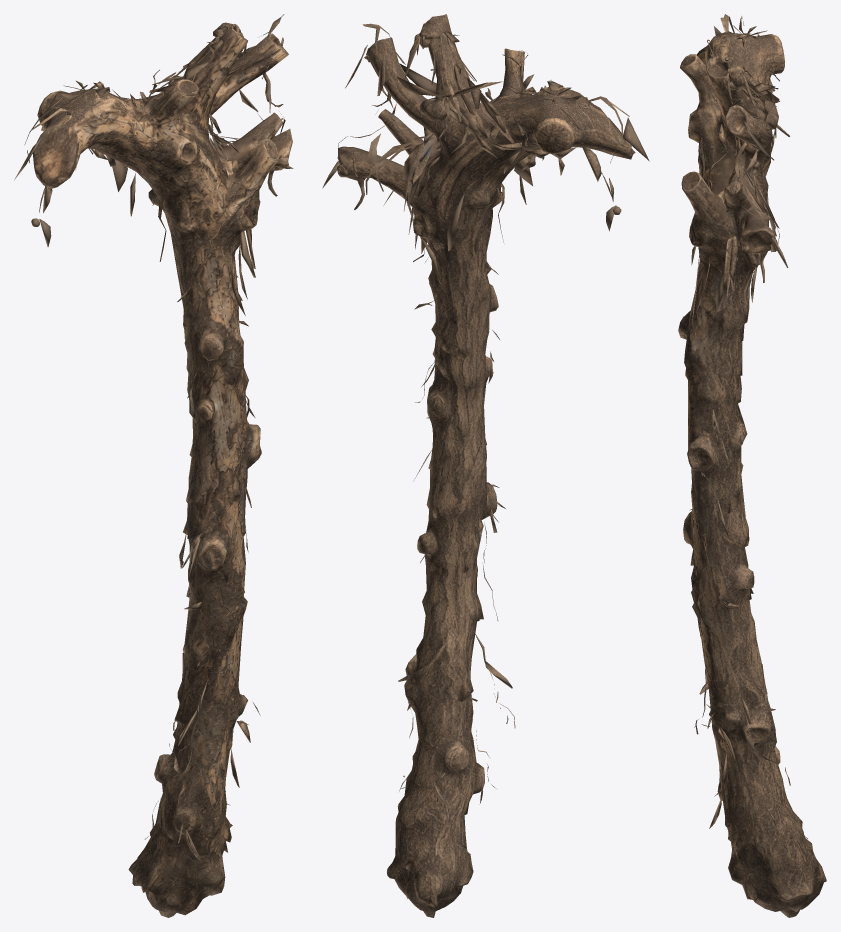
The model's file is excavated_shillelagh.fbx.
3 views of the same model, side by side, from view 1: azimuth 30°, elevation 25°; view 2: azimuth 150°, elevation 25°; view 3: azimuth 270°, elevation 25° (orthographic). The views are drawn at different scales.
Visible parts, largest first — view 1: Mesh_0; view 2: Mesh_0; view 3: Mesh_0.
Boxes of the visible parts, x1,y1,x2,y2 form: Mesh_0: [14, 14, 293, 917]; Mesh_0: [322, 14, 649, 917]; Mesh_0: [678, 14, 826, 917].
Bounding box in the file's own units: 33.59 × 95.12 × 14.7.
1 material, 1 textured.
